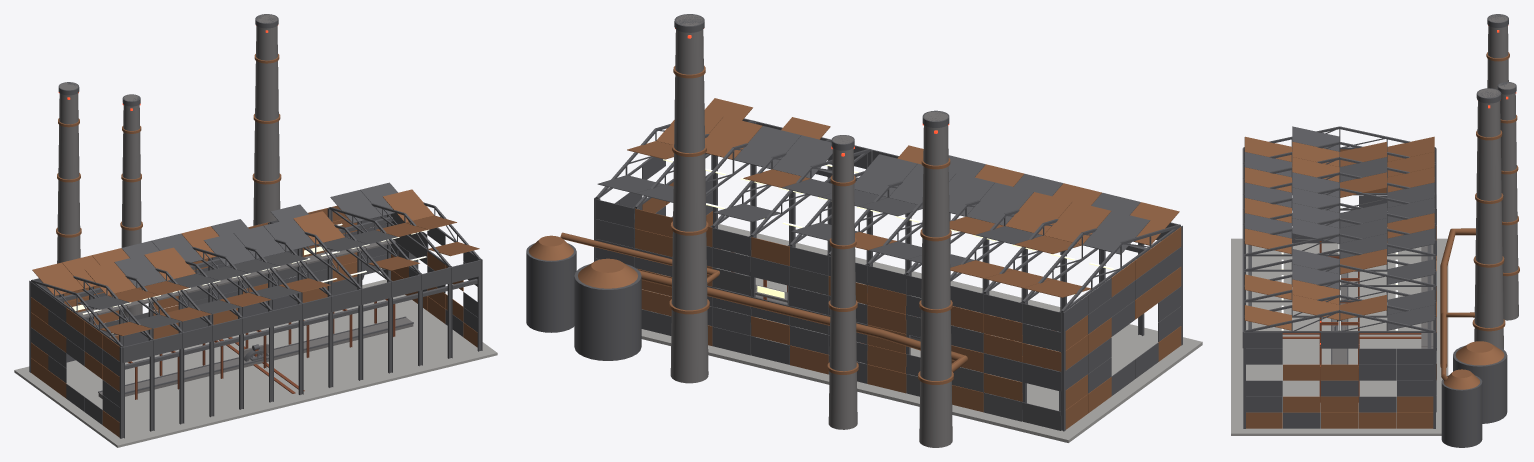
File: factory.glb
3 views of the same model, side by side, from view 1: azimuth 30°, elevation 25°; view 2: azimuth 150°, elevation 25°; view 3: azimuth 270°, elevation 25° (orthographic). The views are drawn at different scales.
Visible parts, largest first — view 1: factory_hall, factory_chimneys; view 2: factory_hall, factory_chimneys; view 3: factory_hall, factory_chimneys, crane_bridge.
Boxes of the visible parts, x1,y1,x2,y2 form: factory_hall: [14, 182, 497, 447]; factory_chimneys: [56, 14, 418, 317]; factory_hall: [594, 98, 1202, 442]; factory_chimneys: [526, 14, 967, 447]; factory_hall: [1231, 126, 1448, 435]; factory_chimneys: [1440, 14, 1519, 447]; crane_bridge: [1282, 333, 1421, 338].
Size of the model in its own units: 110 by 75.2 by 63.8.
